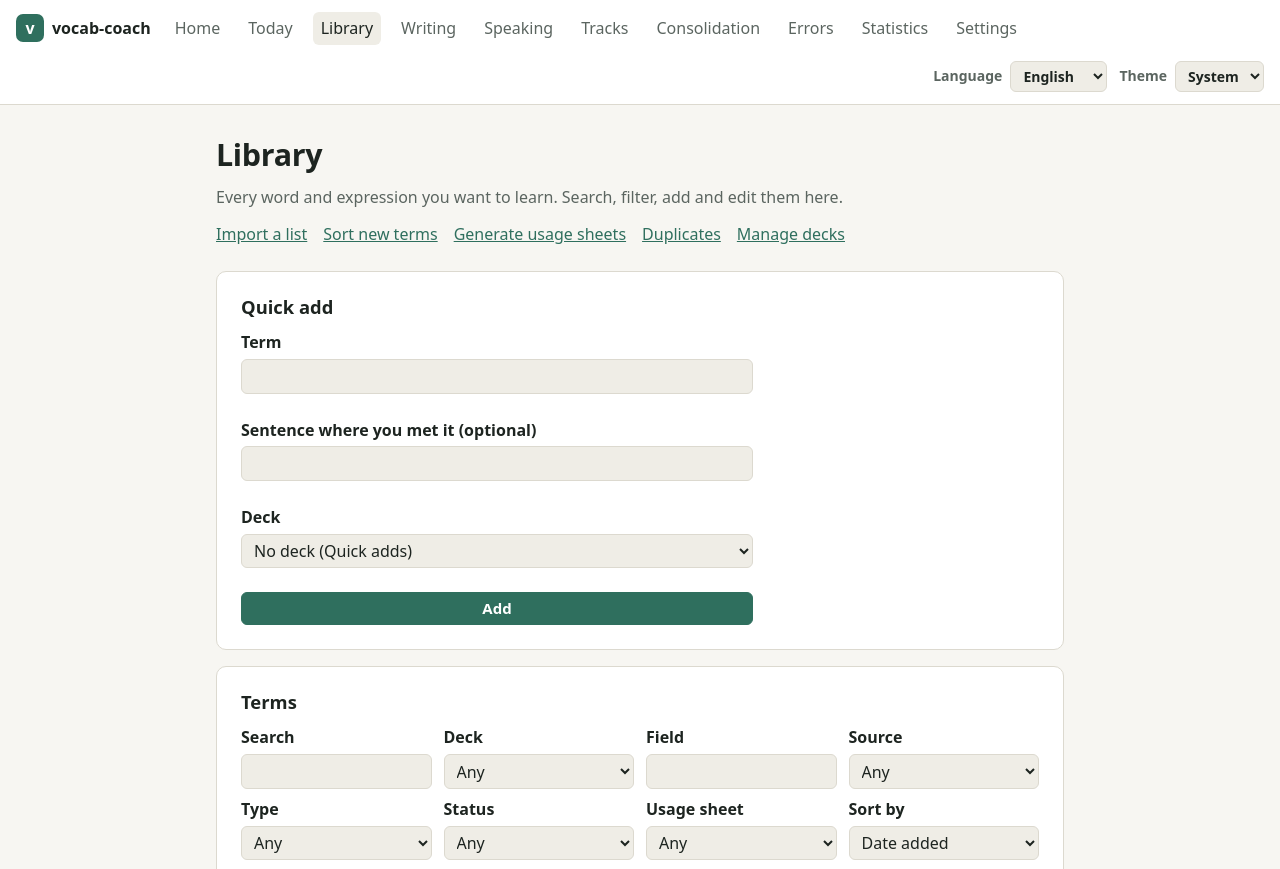
Test: library page › is available in French
Expected: the heading "Quick add" is shown, [241, 294, 333, 319]
Select "Français" in the dropdown labelled "Language" at (1059, 76), box [1010, 61, 1107, 92]
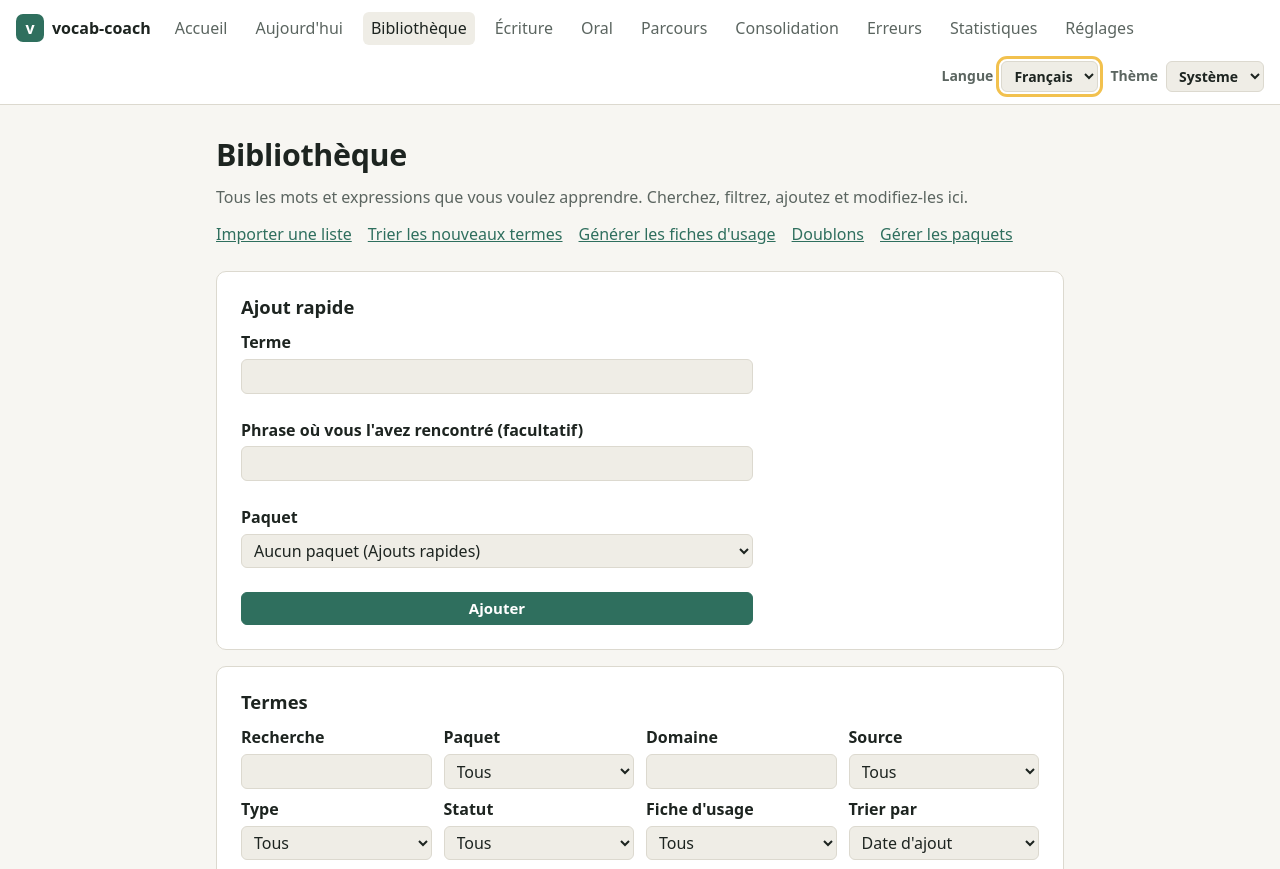
Now the heading "Ajout rapide" is shown, box [241, 294, 354, 319]
